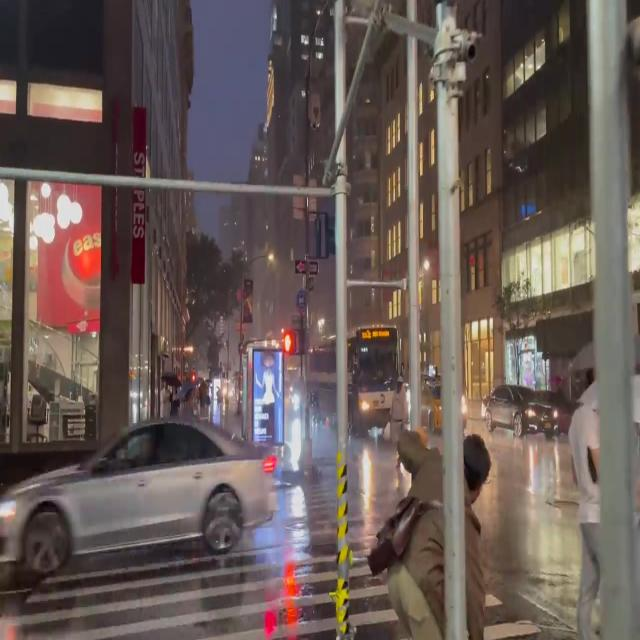Car: (479, 384, 555, 438)
